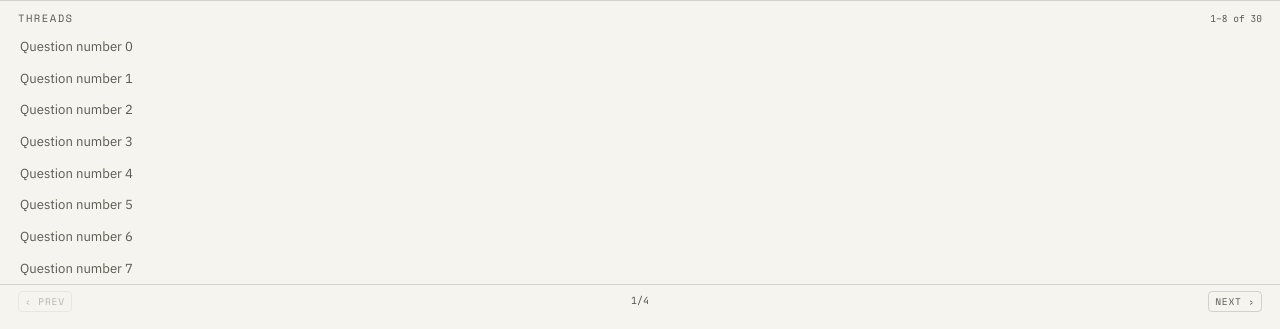
Test: ThreadList › pages forward and back through the rest
The image size is (1280, 329).
Click the button "Next ›": (1235, 302) left=1208, top=291, right=1262, bottom=312
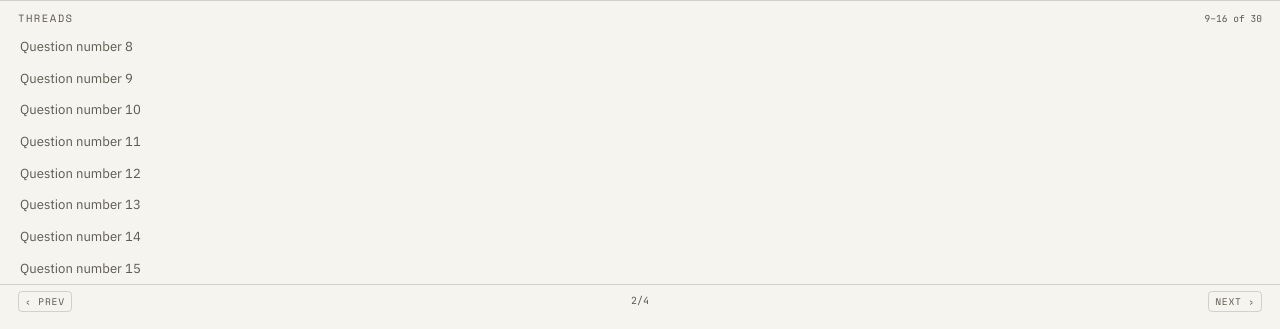
Check: the text "9–16 of 30" is shown, box left=1204, top=12, right=1262, bottom=26
Click the button "‹ Prev": (45, 302) left=18, top=291, right=72, bottom=312
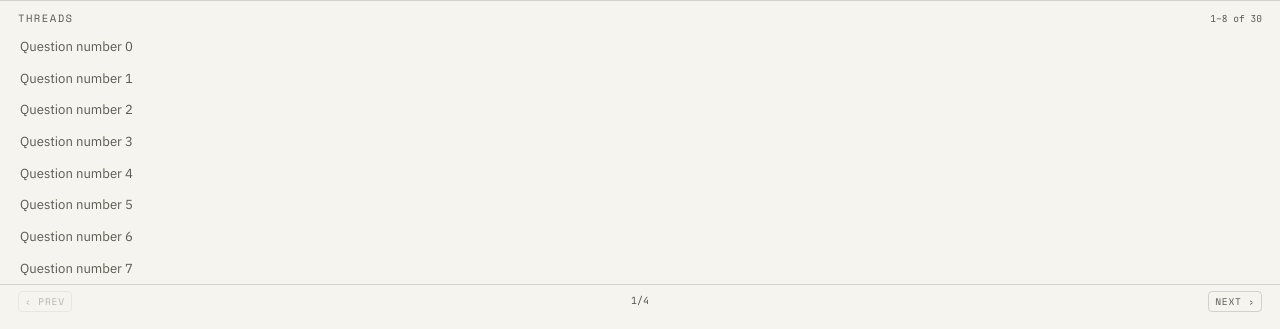
Check: the text "1–8 of 30" is shown, box left=1210, top=12, right=1262, bottom=26
